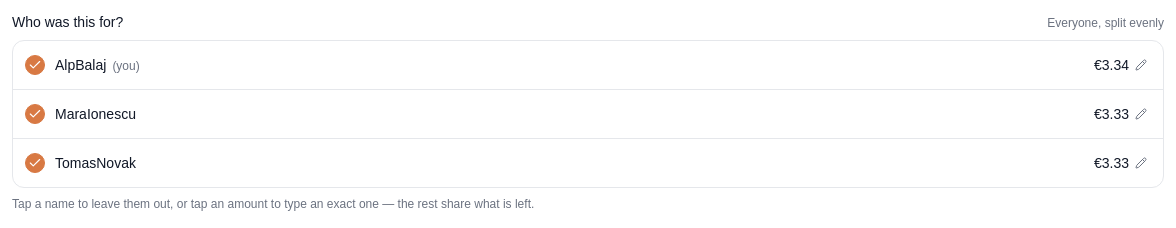
Scenario: PotAttributionField › drops somebody when their name is tapped, and re-splits across the rest
The image size is (1176, 228).
Click the checkbox labelled "TomasNovak": (95, 163) [21,149,1078,177]
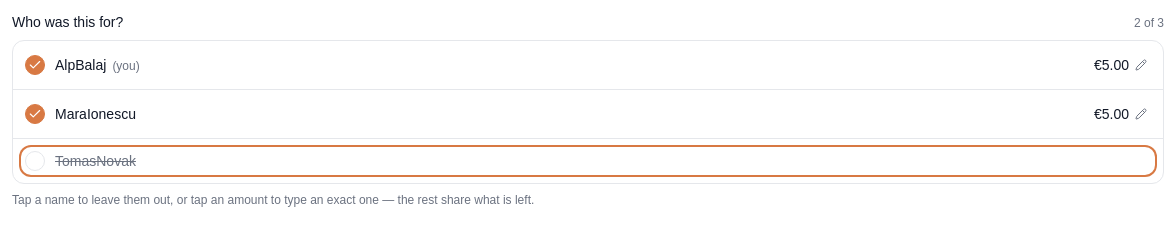
Expected: the text "2 of 3" is shown, [1134,15,1164,31]
Expected: the button named "Type an exact amount for AlpBalaj" reads "€5.00", [1086,49,1155,81]
